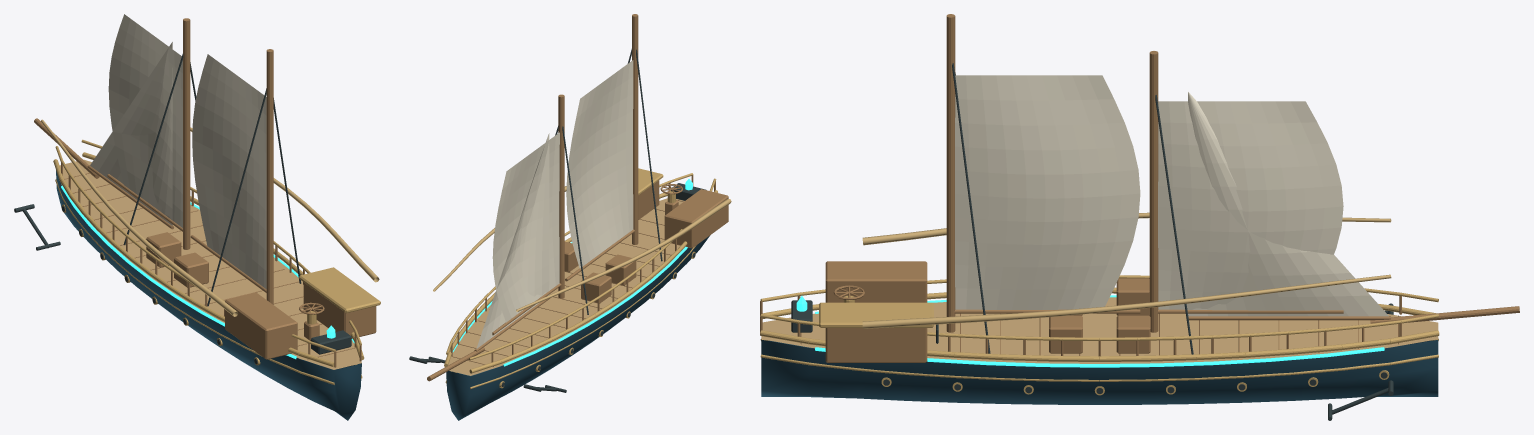
The model's file is premium_golden_clipper.glb.
The picture shows the model from 3 angles, left to right: view 1: azimuth 30°, elevation 25°; view 2: azimuth 150°, elevation 25°; view 3: azimuth 270°, elevation 25°; orthographic projection. The views are drawn at different scales.
Parts seen in each view (by area): view 1: premium_golden_clipper; view 2: premium_golden_clipper; view 3: premium_golden_clipper.
Part boxes in pixels (x1,y1,x2,y2): premium_golden_clipper: (14,14,380,420); premium_golden_clipper: (409,14,731,420); premium_golden_clipper: (760,14,1519,420).
Bounding box in the file's own units: 4.73 × 8.7 × 15.71.
